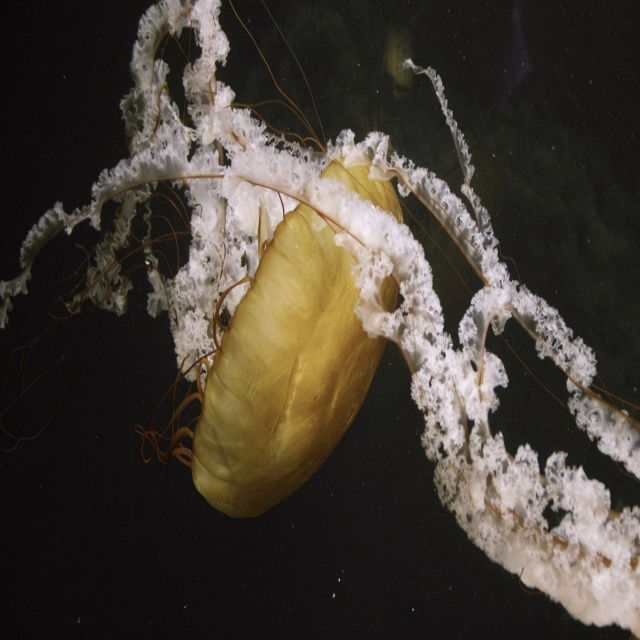Jellyfish: (0, 47, 640, 639)
